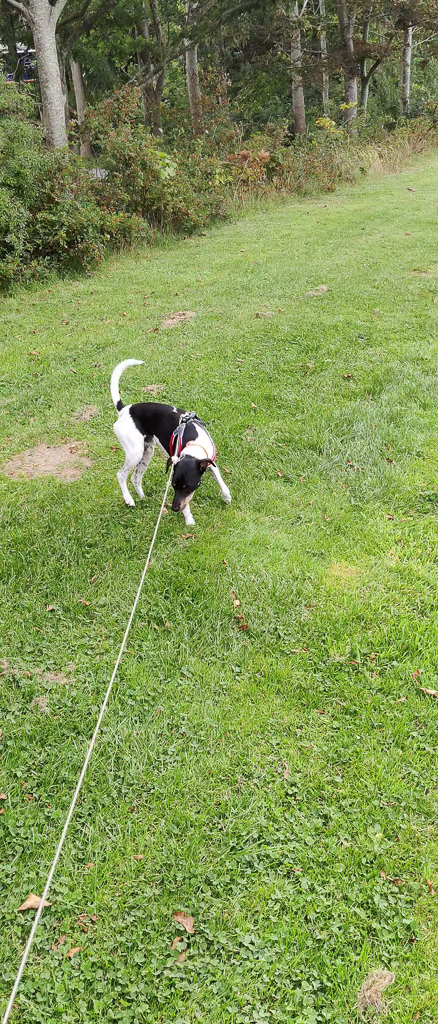Dog: (89, 354, 247, 531)
